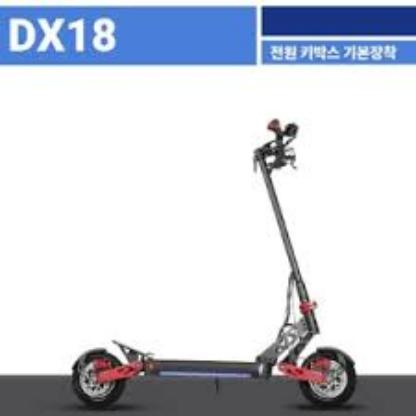bike: (71, 124, 357, 411)
